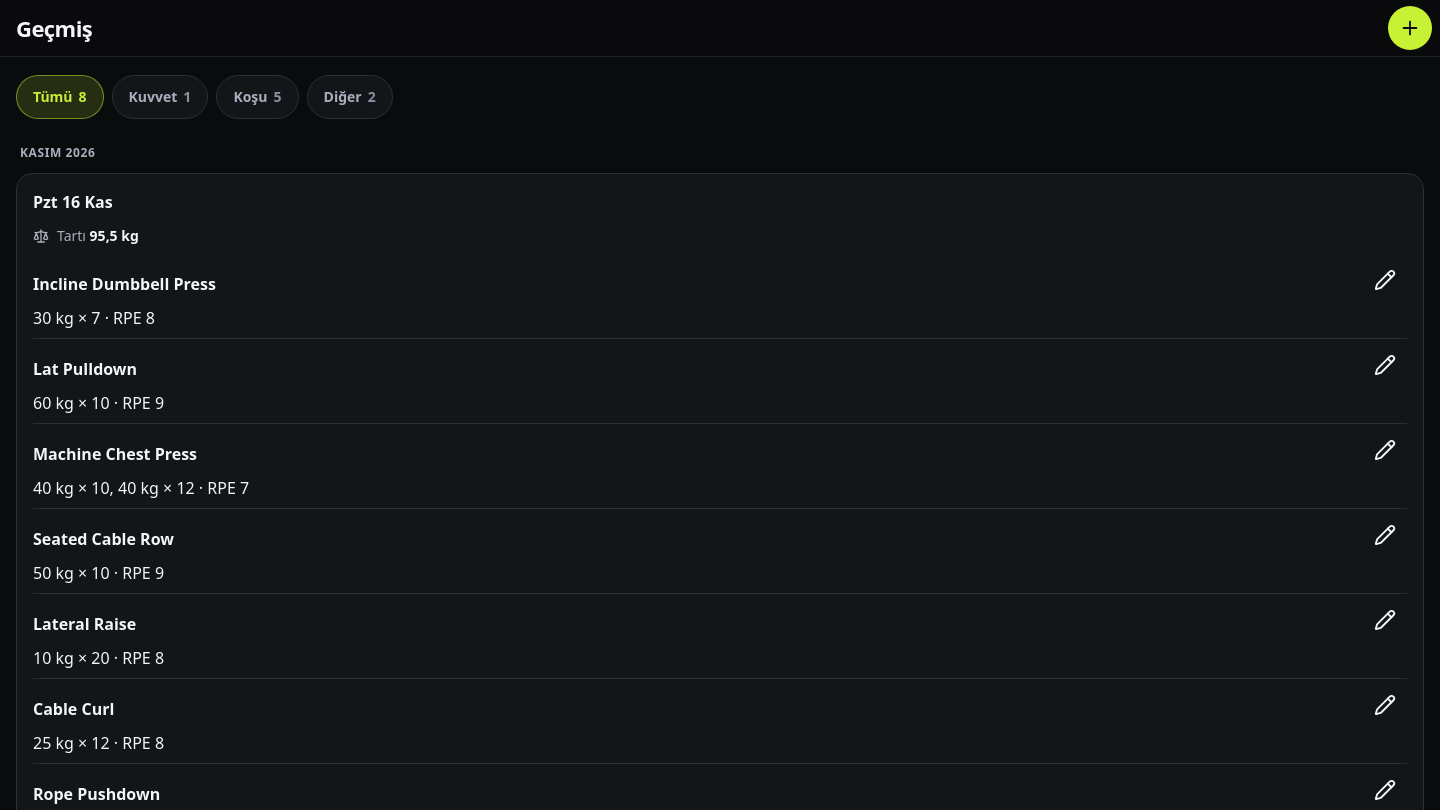
Test: HistoryScreen › editing the second Machine Chest Press set updates only its own entry
This screenshot has width=1440, height=810.
Click the button named "Machine Chest Press düzenle": (1385,450) x1=1363 y1=428 x2=1407 y2=472
(page scrolled)
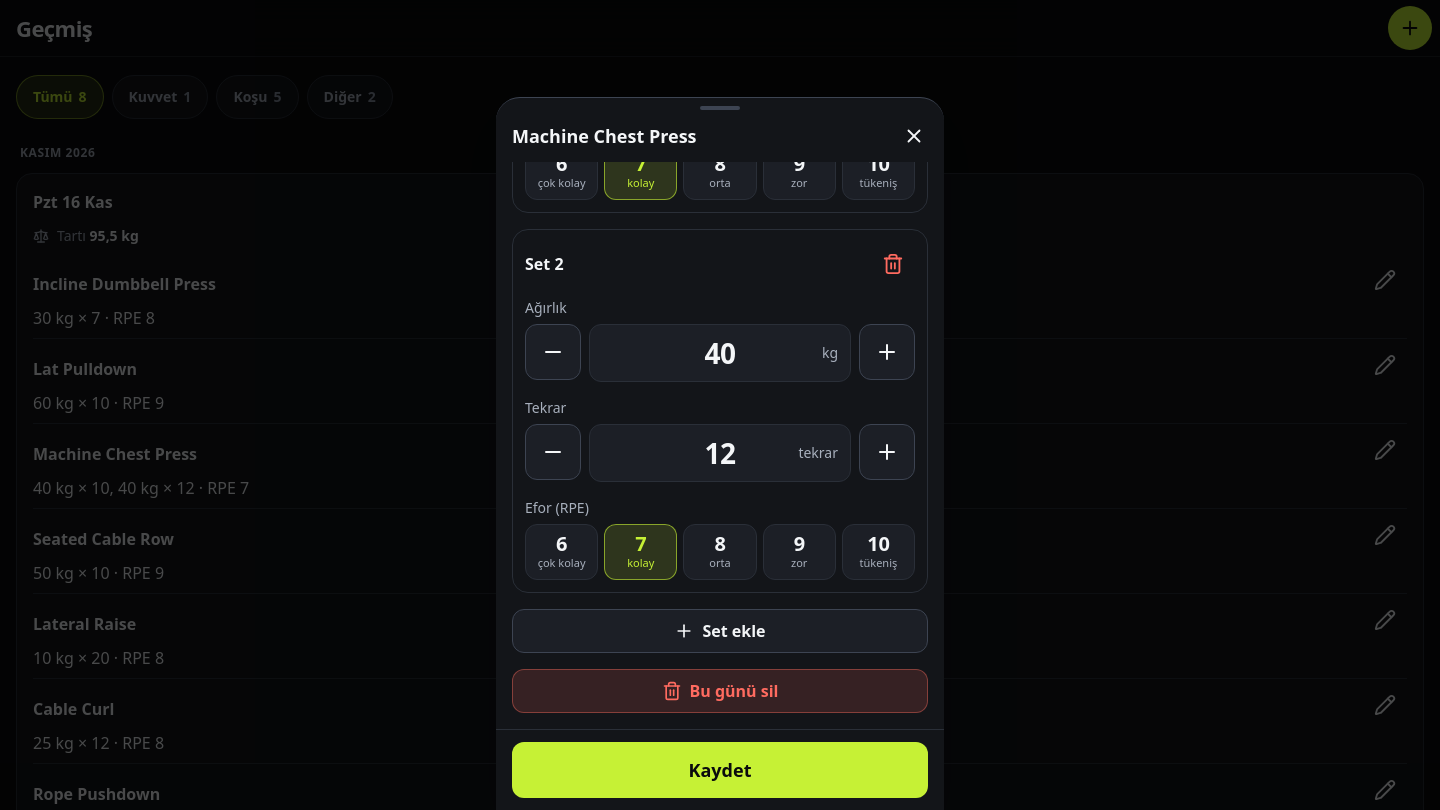
Replace the text in the field labelled "Tekrar" with "11": (720,453) x1=590 y1=425 x2=850 y2=481
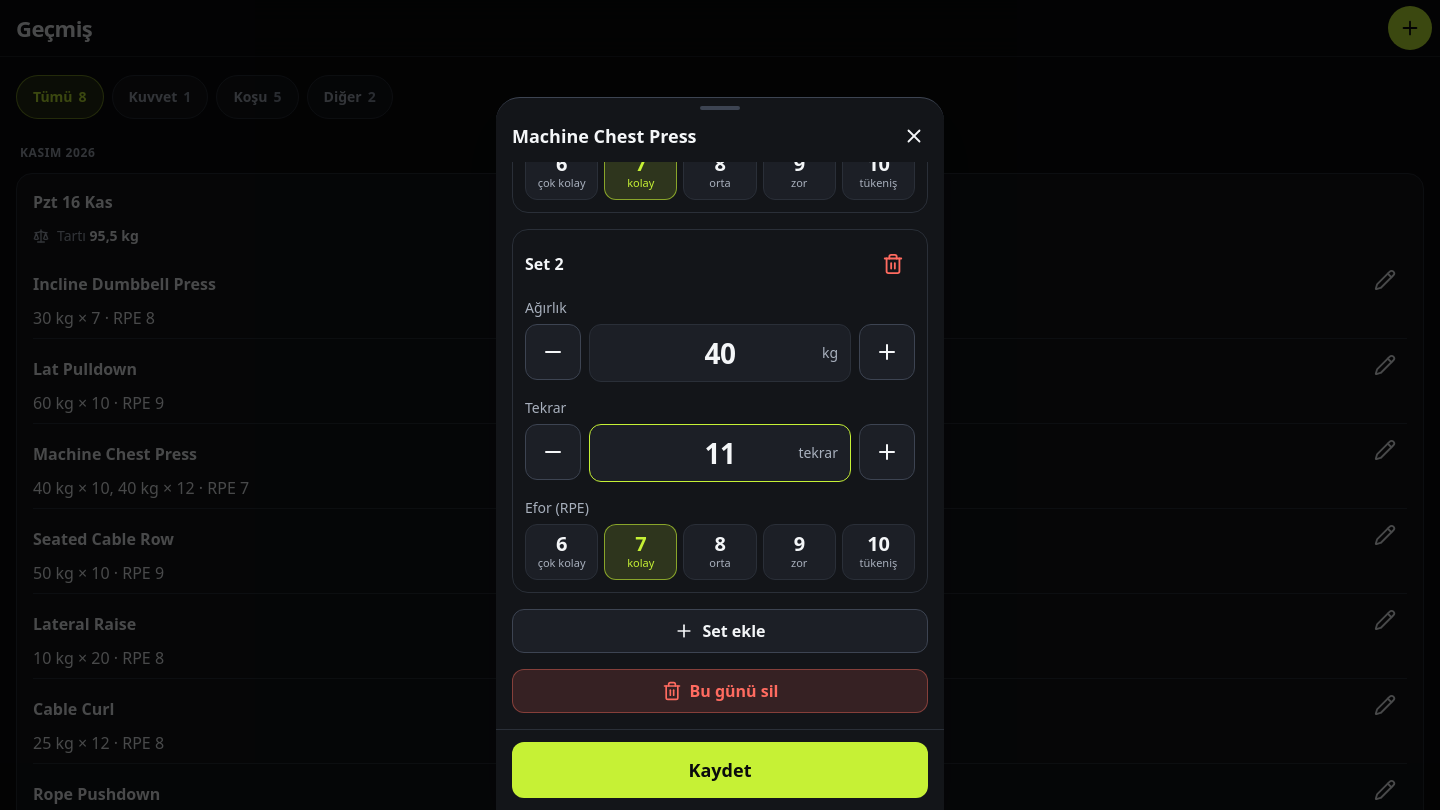
Click the button "Kaydet": (720,770) x1=512 y1=742 x2=928 y2=798
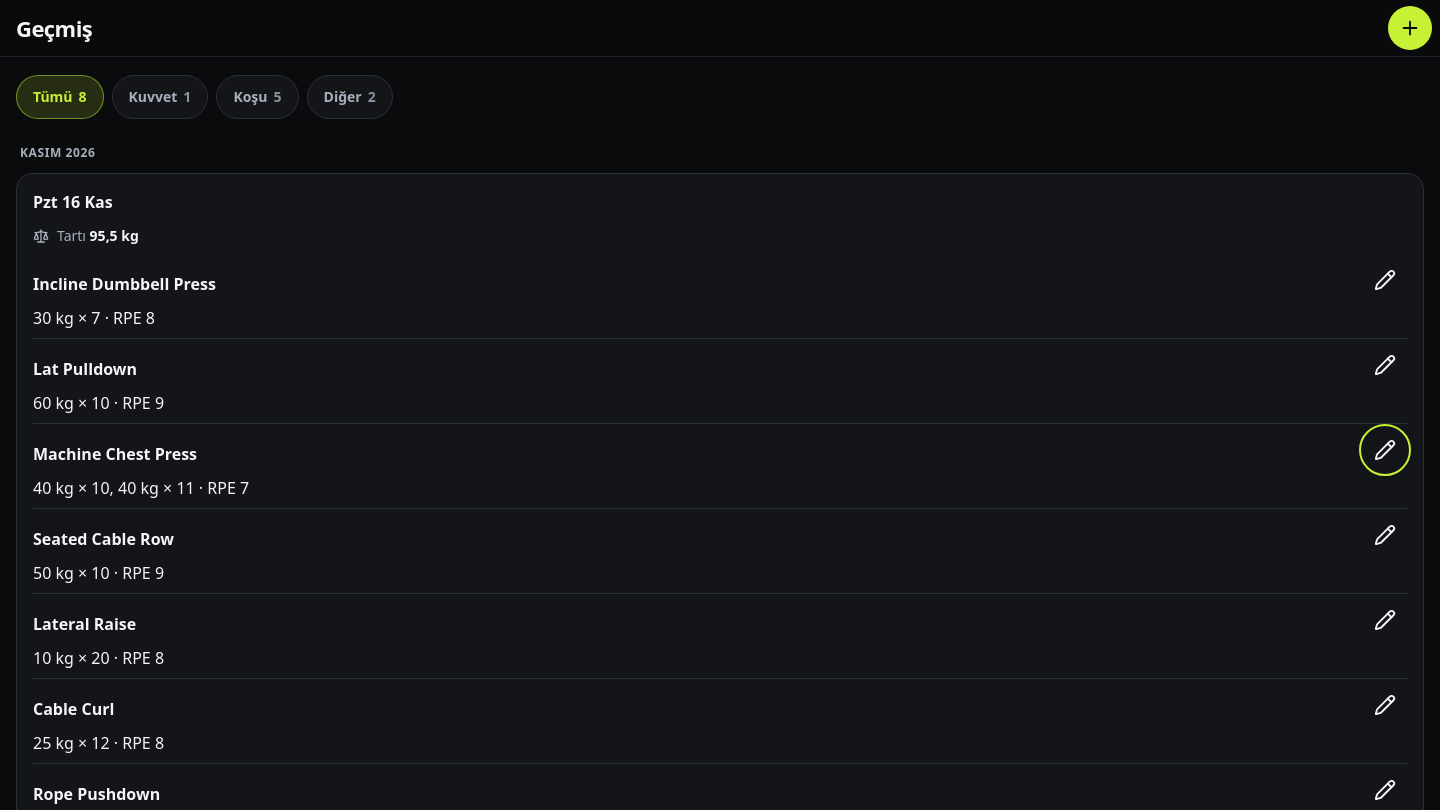
expect the dialog is gone: met
expect the list item "Machine Chest Press" shows "40 kg × 10, 40 kg × 11 · RPE 7": met, box x1=33 y1=477 x2=249 y2=499
